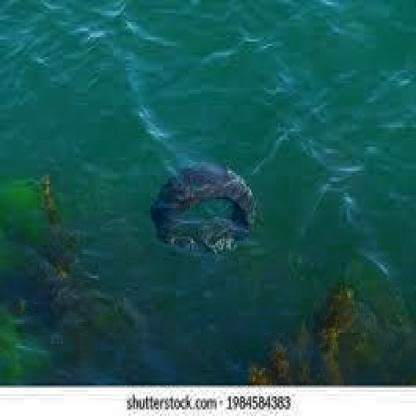tire: (160, 175, 250, 261)
